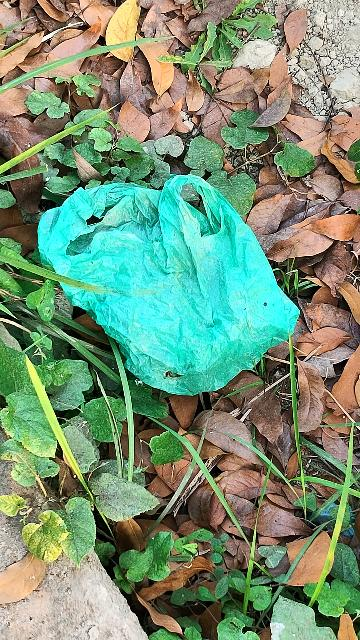polythene: (30, 186, 318, 399)
